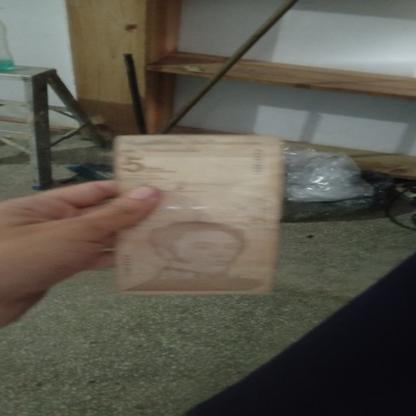five-front-vef: (112, 134, 280, 294)
